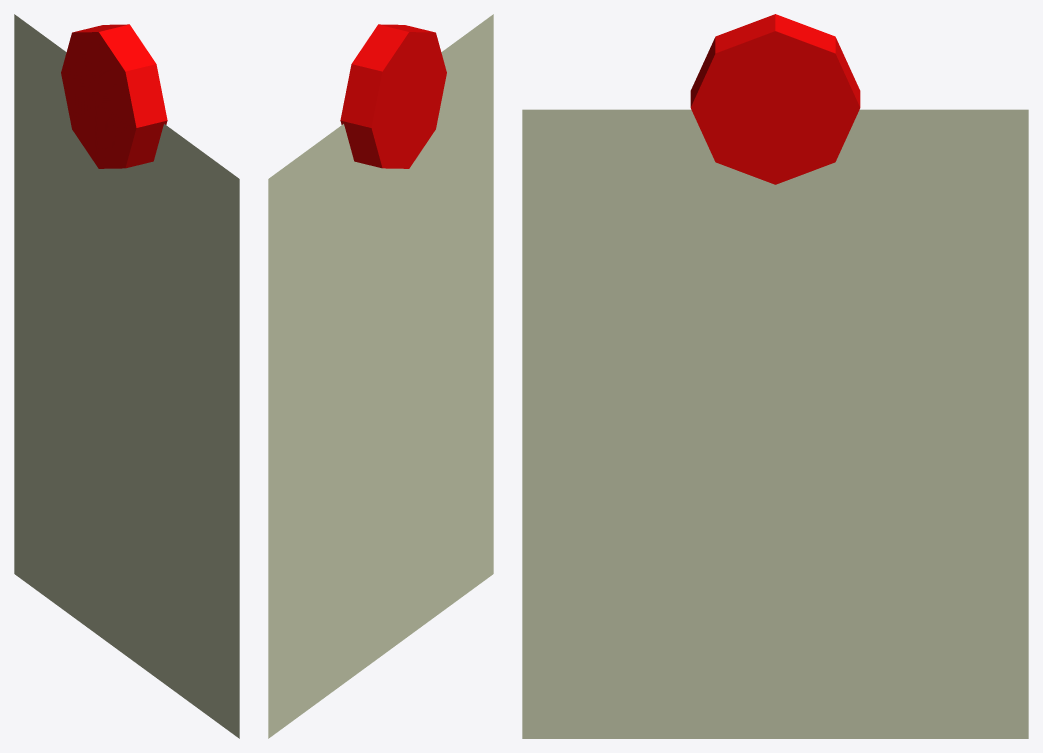
File: fridge_magnet_note_01.fbx
The picture shows the model from 3 angles, left to right: view 1: azimuth 30°, elevation 25°; view 2: azimuth 150°, elevation 25°; view 3: azimuth 270°, elevation 25°; orthographic projection. The views are drawn at different scales.
Parts seen in each view (by area): view 1: Circle; view 2: Circle; view 3: Circle.
Boxes of the visible parts, bbox=[...] form: Circle: bbox=[14, 14, 239, 738]; Circle: bbox=[268, 14, 493, 738]; Circle: bbox=[522, 14, 1028, 738].
Size of the model in its own units: 0.01 by 0.1256 by 0.1941.
